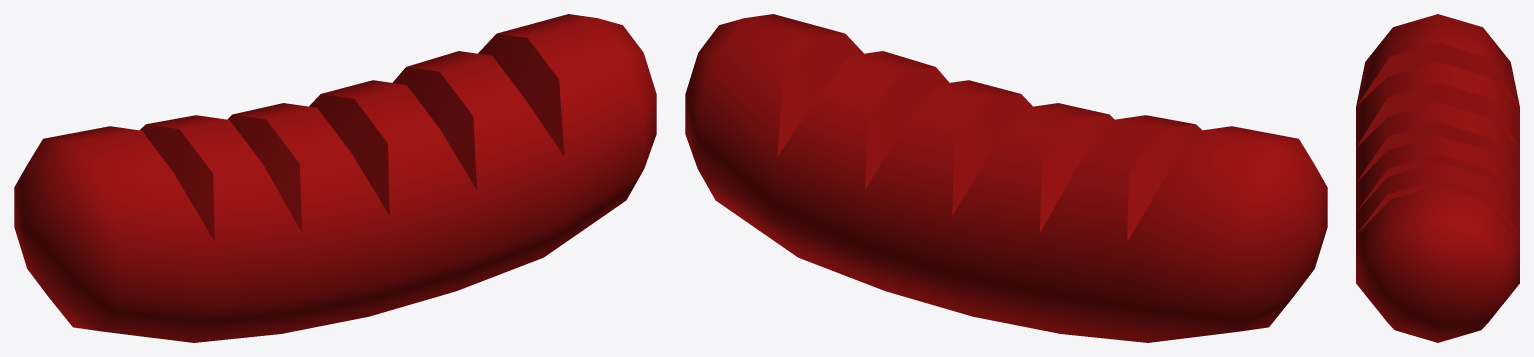
File: XucXich.FBX
3 views of the same model, side by side, from view 1: azimuth 30°, elevation 25°; view 2: azimuth 150°, elevation 25°; view 3: azimuth 270°, elevation 25° (orthographic). The views are drawn at different scales.
Visible parts, largest first — view 1: XucXich; view 2: XucXich; view 3: XucXich.
Part boxes in pixels (bbox=[...]): XucXich: bbox=[14, 14, 656, 342]; XucXich: bbox=[685, 14, 1327, 342]; XucXich: bbox=[1356, 14, 1519, 342].
Bounding box in the file's own units: 0.694 × 0.2471 × 0.2094.
